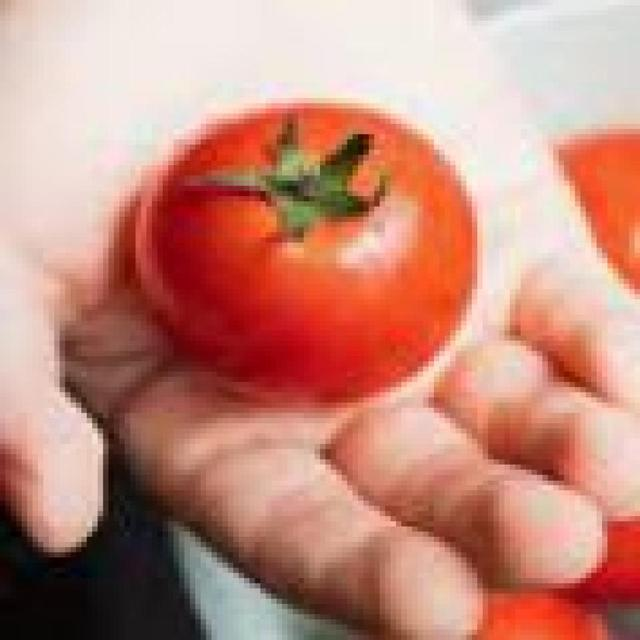Healthy Fruit: (83, 56, 330, 262)
